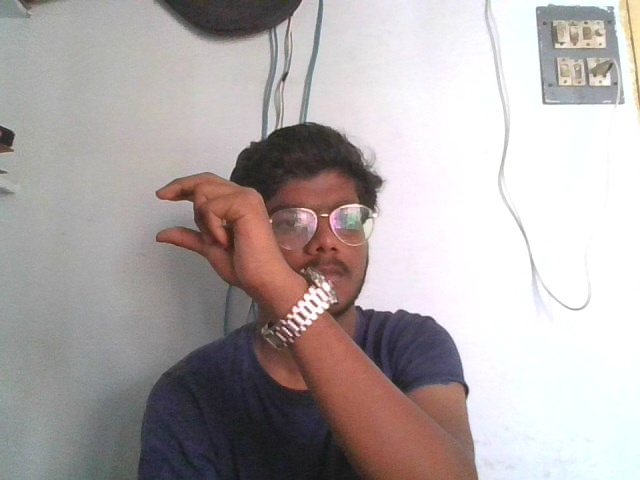No: (129, 163, 332, 288)
